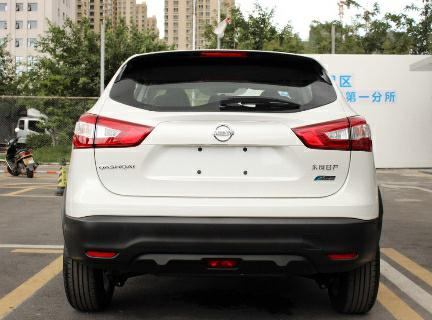日产-逍客: (49, 39, 388, 315)
